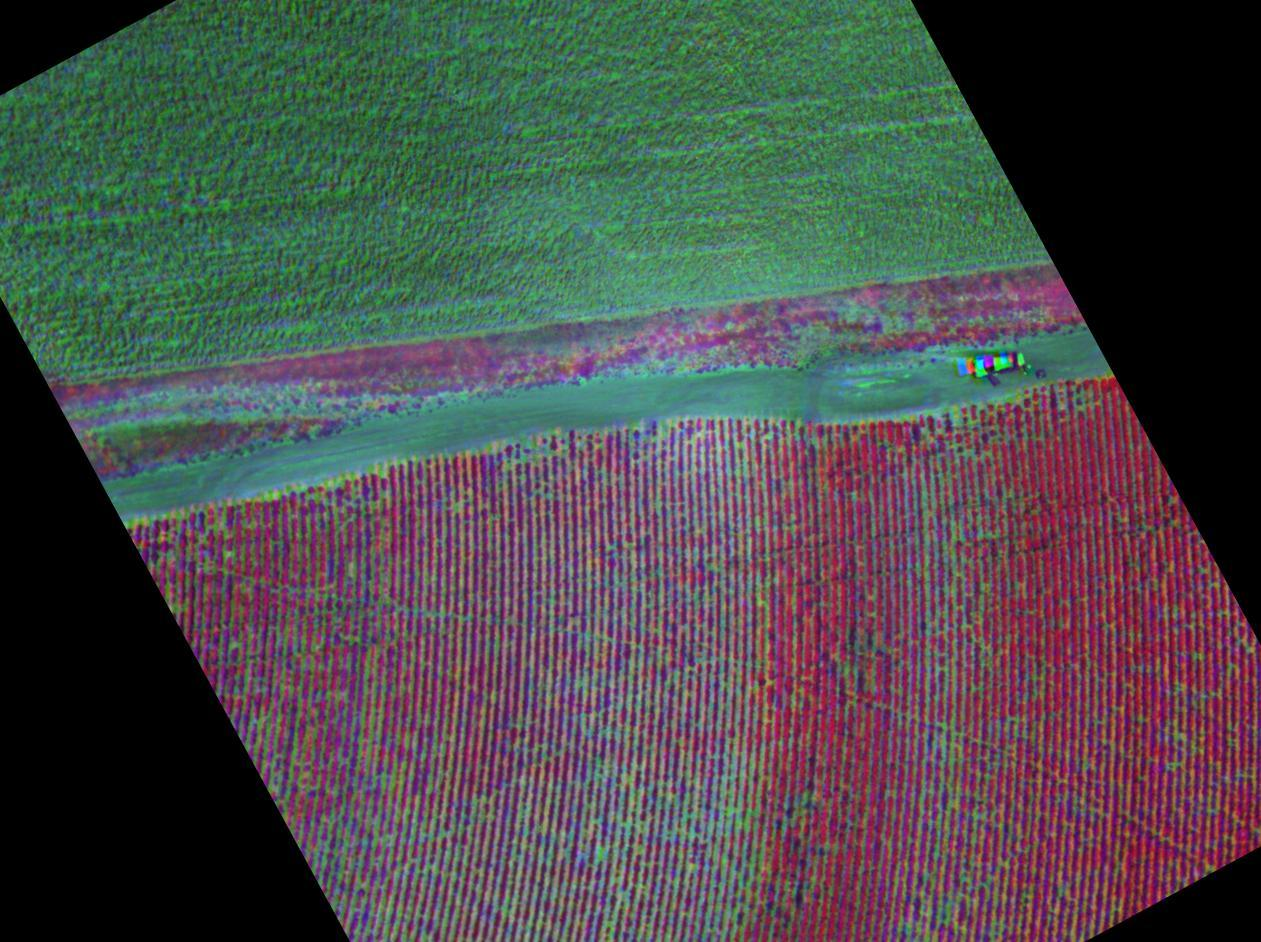dc: (506, 465, 511, 471), (954, 417, 958, 422), (978, 534, 983, 538), (229, 643, 233, 648), (729, 808, 733, 813), (363, 899, 368, 903), (654, 437, 658, 441), (757, 599, 761, 603), (349, 636, 353, 640), (428, 786, 432, 790), (308, 773, 311, 778), (658, 502, 661, 506), (454, 503, 457, 507), (335, 513, 338, 517), (374, 840, 377, 844)
